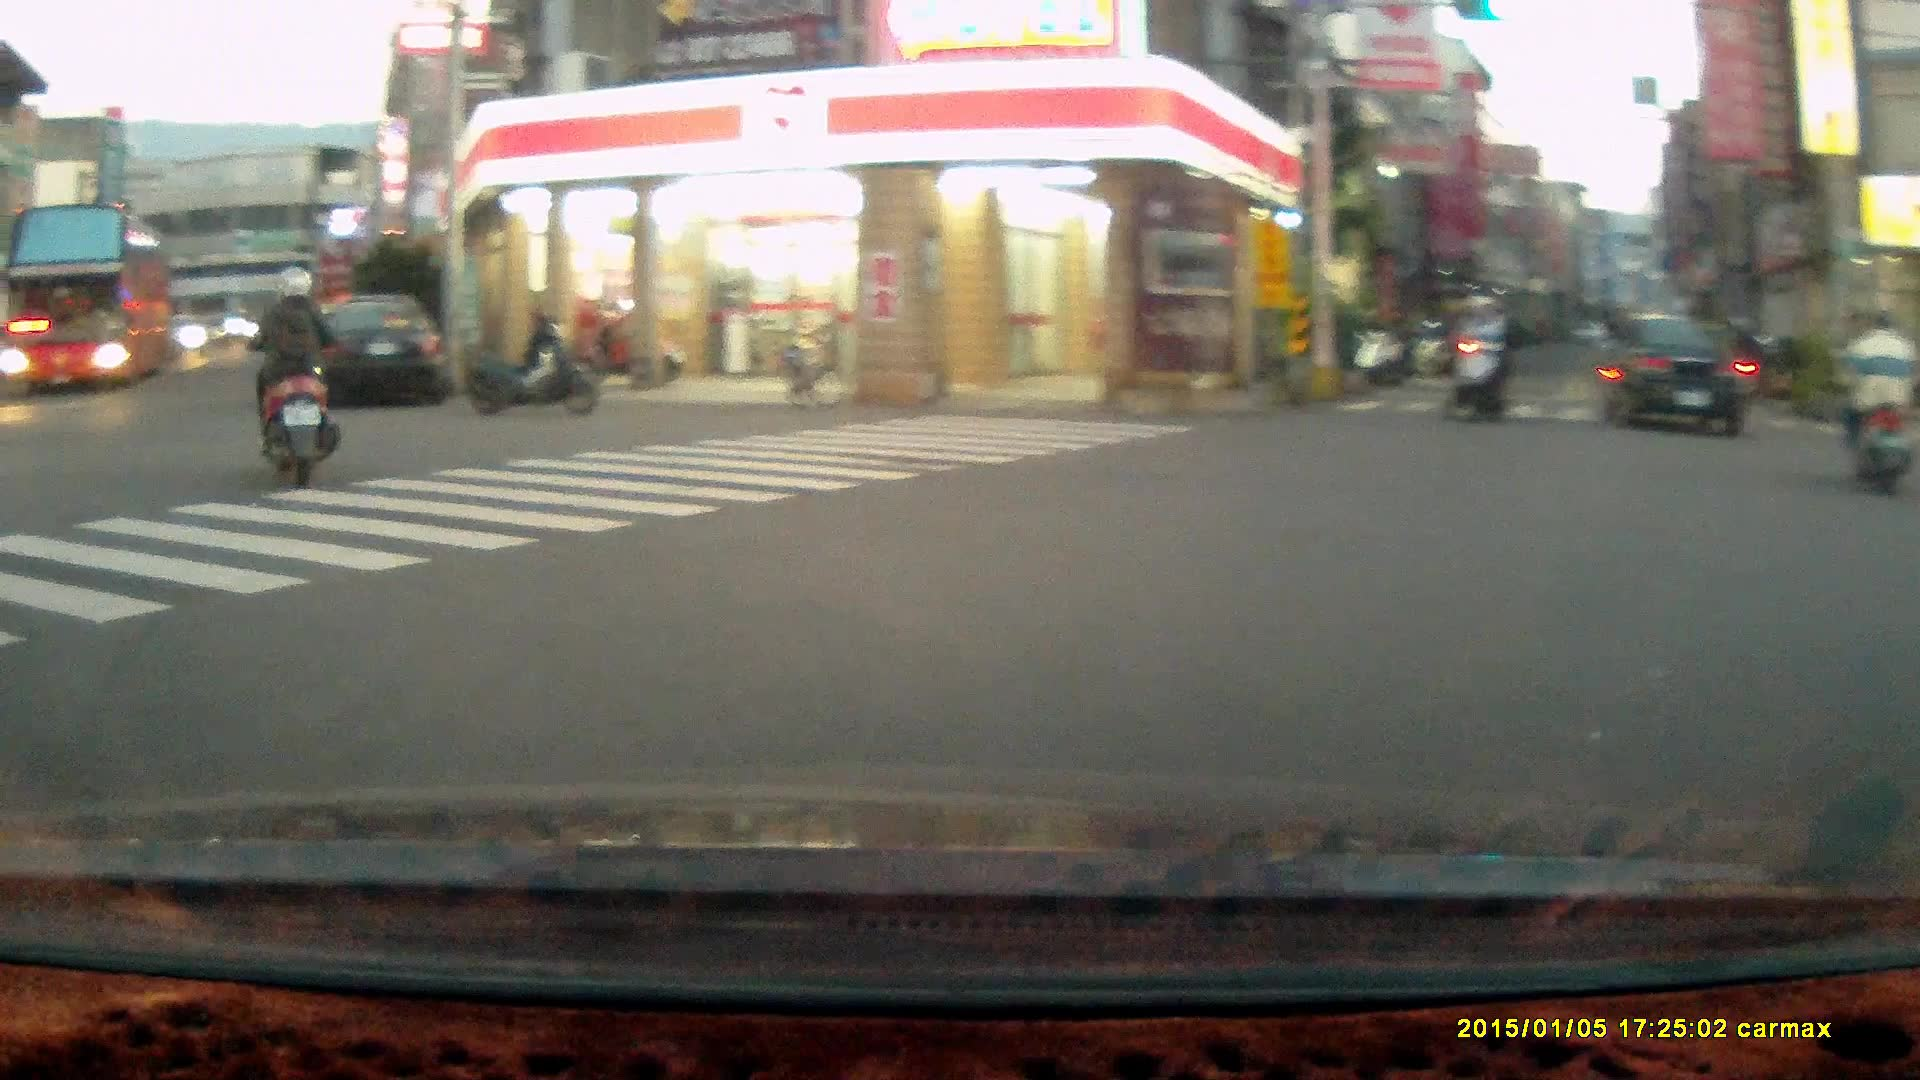rider: (249, 262, 342, 489), (1829, 306, 1908, 494), (1439, 293, 1509, 430)
vehicle: (2, 203, 172, 394), (1594, 312, 1757, 444), (310, 293, 452, 403)
